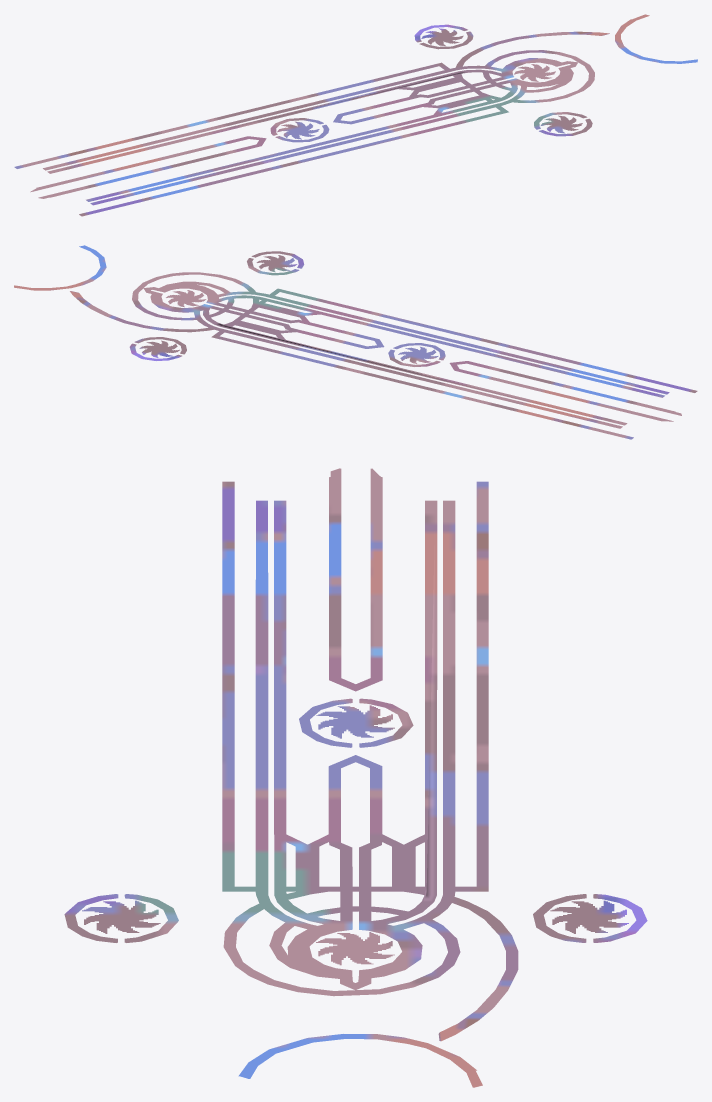
The model's file is EnvMdrMD_City_A_EntranceGrdDeco_A.FBX.
3 views of the same model, one above another, from view 1: azimuth 30°, elevation 25°; view 2: azimuth 150°, elevation 25°; view 3: azimuth 270°, elevation 25° (orthographic). The views are drawn at different scales.
Visible parts, largest first — view 1: EnvMdrMD_City_A_EntranceGrdDeco_A; view 2: EnvMdrMD_City_A_EntranceGrdDeco_A; view 3: EnvMdrMD_City_A_EntranceGrdDeco_A.
Part boxes in pixels (<box>): EnvMdrMD_City_A_EntranceGrdDeco_A: <box>14,14,697,216</box>; EnvMdrMD_City_A_EntranceGrdDeco_A: <box>14,245,697,439</box>; EnvMdrMD_City_A_EntranceGrdDeco_A: <box>64,468,647,1087</box>.
Size of the model in its own units: 4129 by 6.1e-05 by 1643.
Materials: 1 (1 with a texture image).
